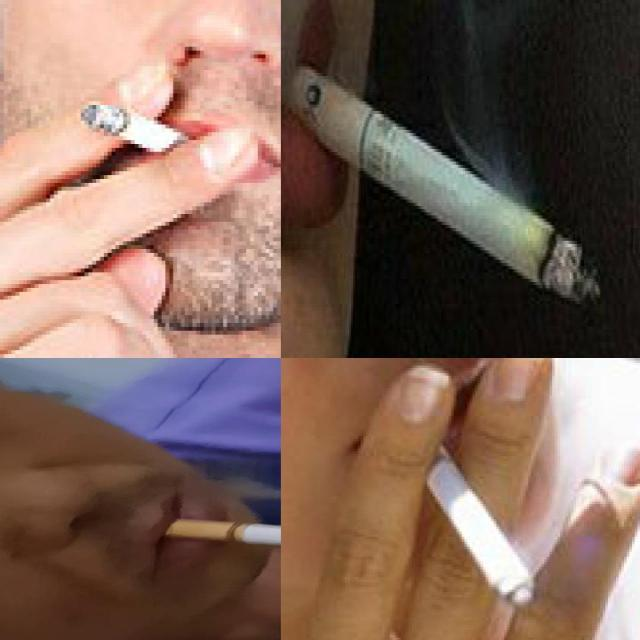smoking: (283, 57, 601, 307), (410, 423, 534, 604), (78, 102, 192, 158), (164, 519, 280, 559)
